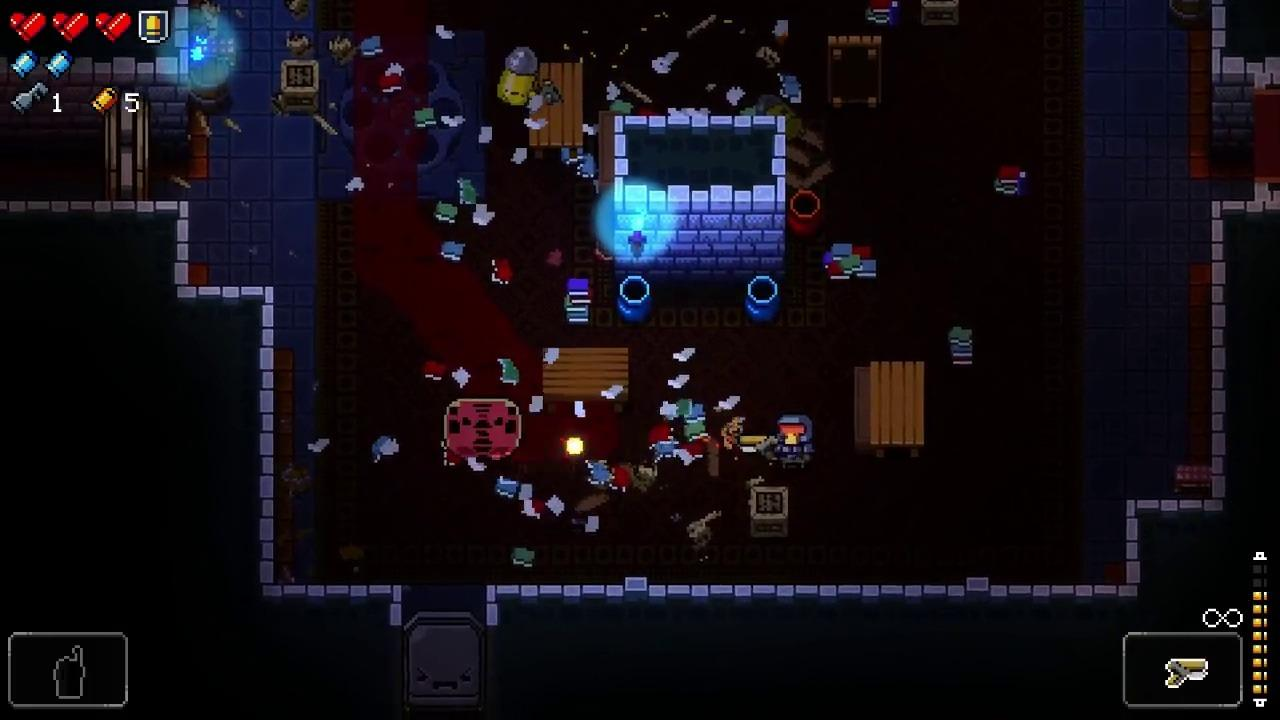blobulon_l: (444, 399, 522, 460)
bullet_kin: (495, 44, 537, 109)
locked_door: (402, 611, 486, 713), (107, 90, 150, 202)
player: (775, 414, 815, 470)
table: (540, 347, 631, 414), (870, 360, 926, 458), (528, 62, 583, 158), (827, 35, 882, 109)
teleporter: (314, 30, 486, 200)
wall: (615, 113, 787, 284)
